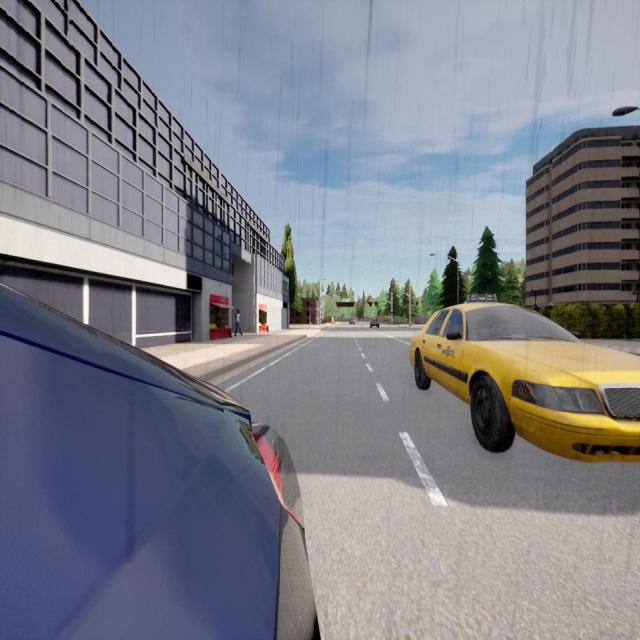Pedestrian: (234, 309, 242, 335)
Vehicle: (0, 282, 320, 640), (410, 302, 640, 461), (370, 318, 380, 328), (349, 317, 357, 325)
traffic_light: (363, 290, 365, 296), (340, 291, 342, 296), (390, 310, 392, 314), (353, 291, 354, 296), (400, 295, 401, 299), (404, 294, 405, 298), (402, 296, 403, 298)
